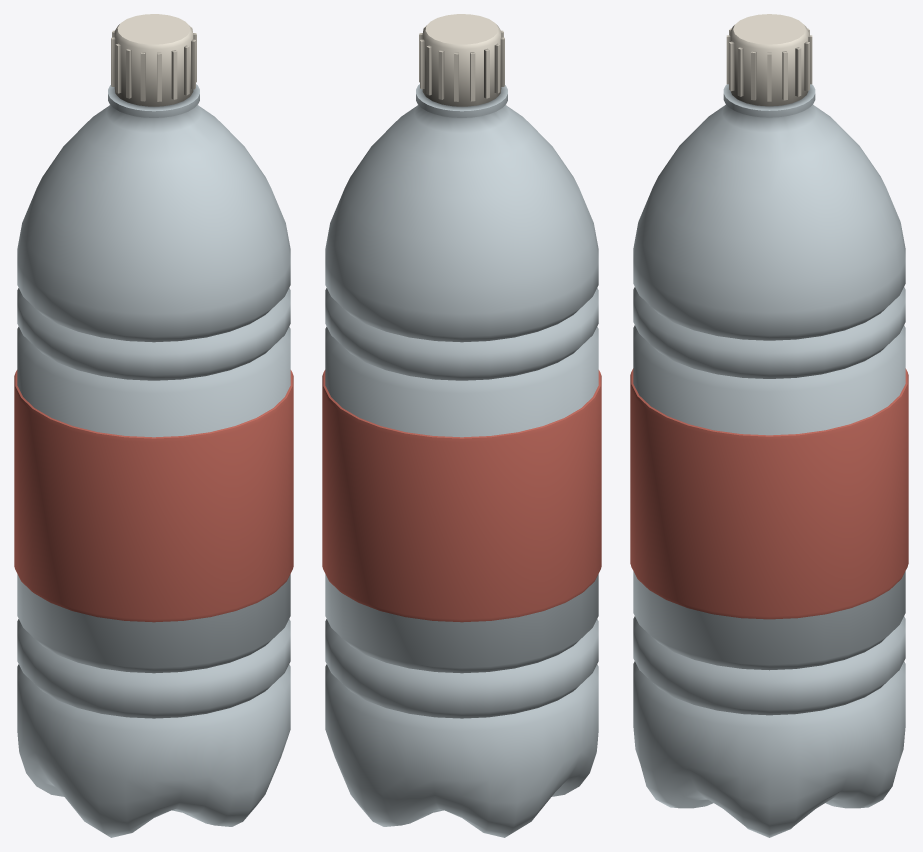
Rendered from drink_water.glb.
3 views of the same model, side by side, from view 1: azimuth 30°, elevation 25°; view 2: azimuth 150°, elevation 25°; view 3: azimuth 270°, elevation 25° (orthographic).
Parts seen in each view (by area): view 1: PART; view 2: PART; view 3: PART.
Part boxes in pixels (<box>): PART: <box>14,14,293,837</box>; PART: <box>322,14,601,837</box>; PART: <box>630,14,908,837</box>.
Size of the model in its own units: 0.1124 by 0.34 by 0.1118.
